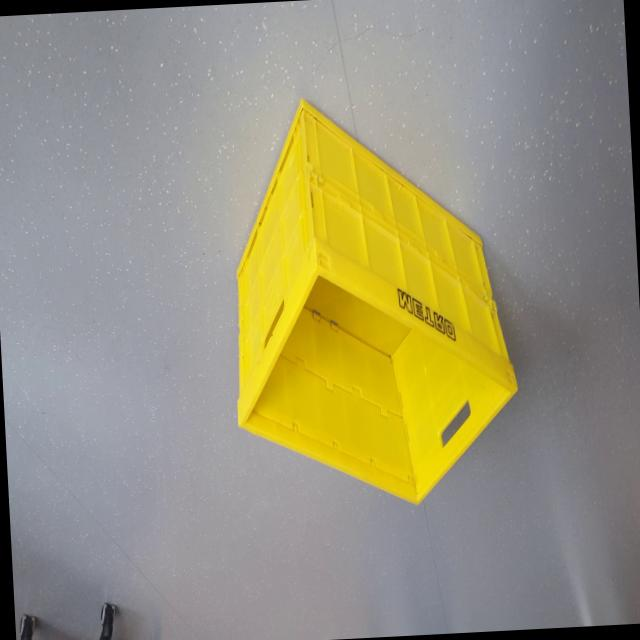box: (214, 81, 524, 524)
